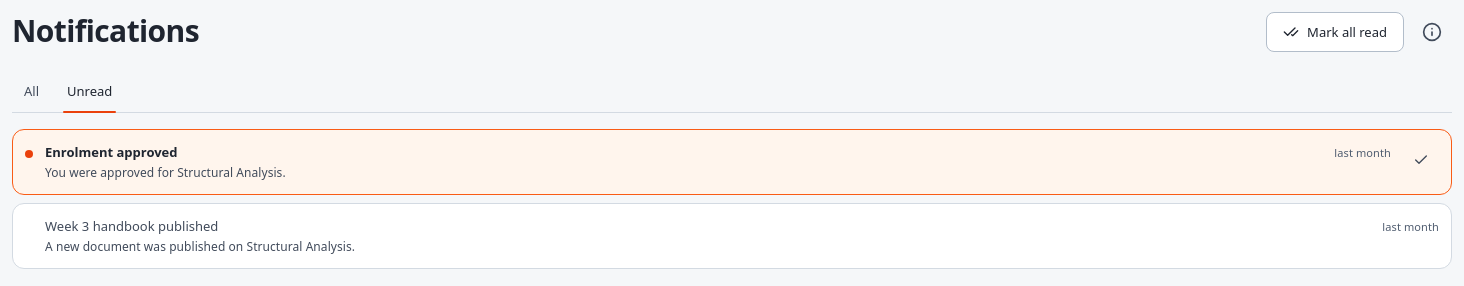
NotificationsPage › offers Mark all read only while something is unread, and sends no ids
The width and height of the screenshot is (1464, 286).
Expected: the button named "mark 'enrolment approved' as read" is shown, [1403,142,1439,178]
What coordinates should you click on to do the following:
click the button "Mark all read"
I would click on:
 (1335, 32)
Its box is [1266,12,1404,52].
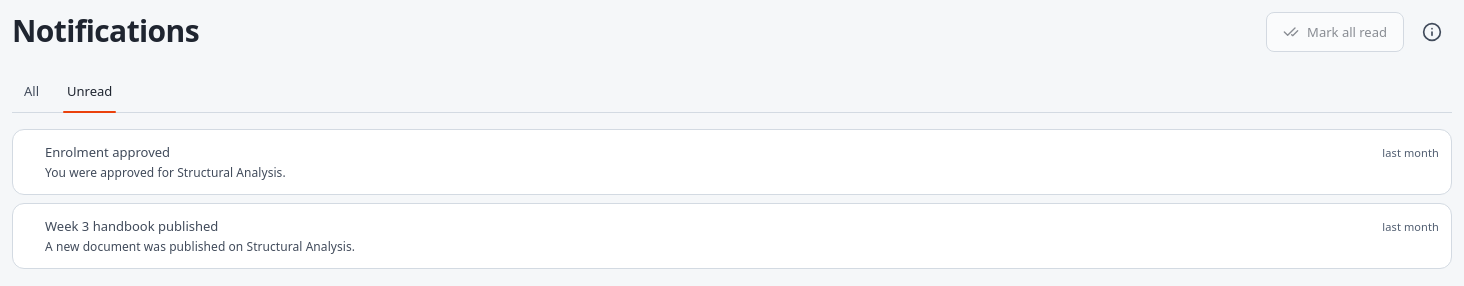
Now the button "Mark all read" is disabled, box [1266,12,1404,52]
